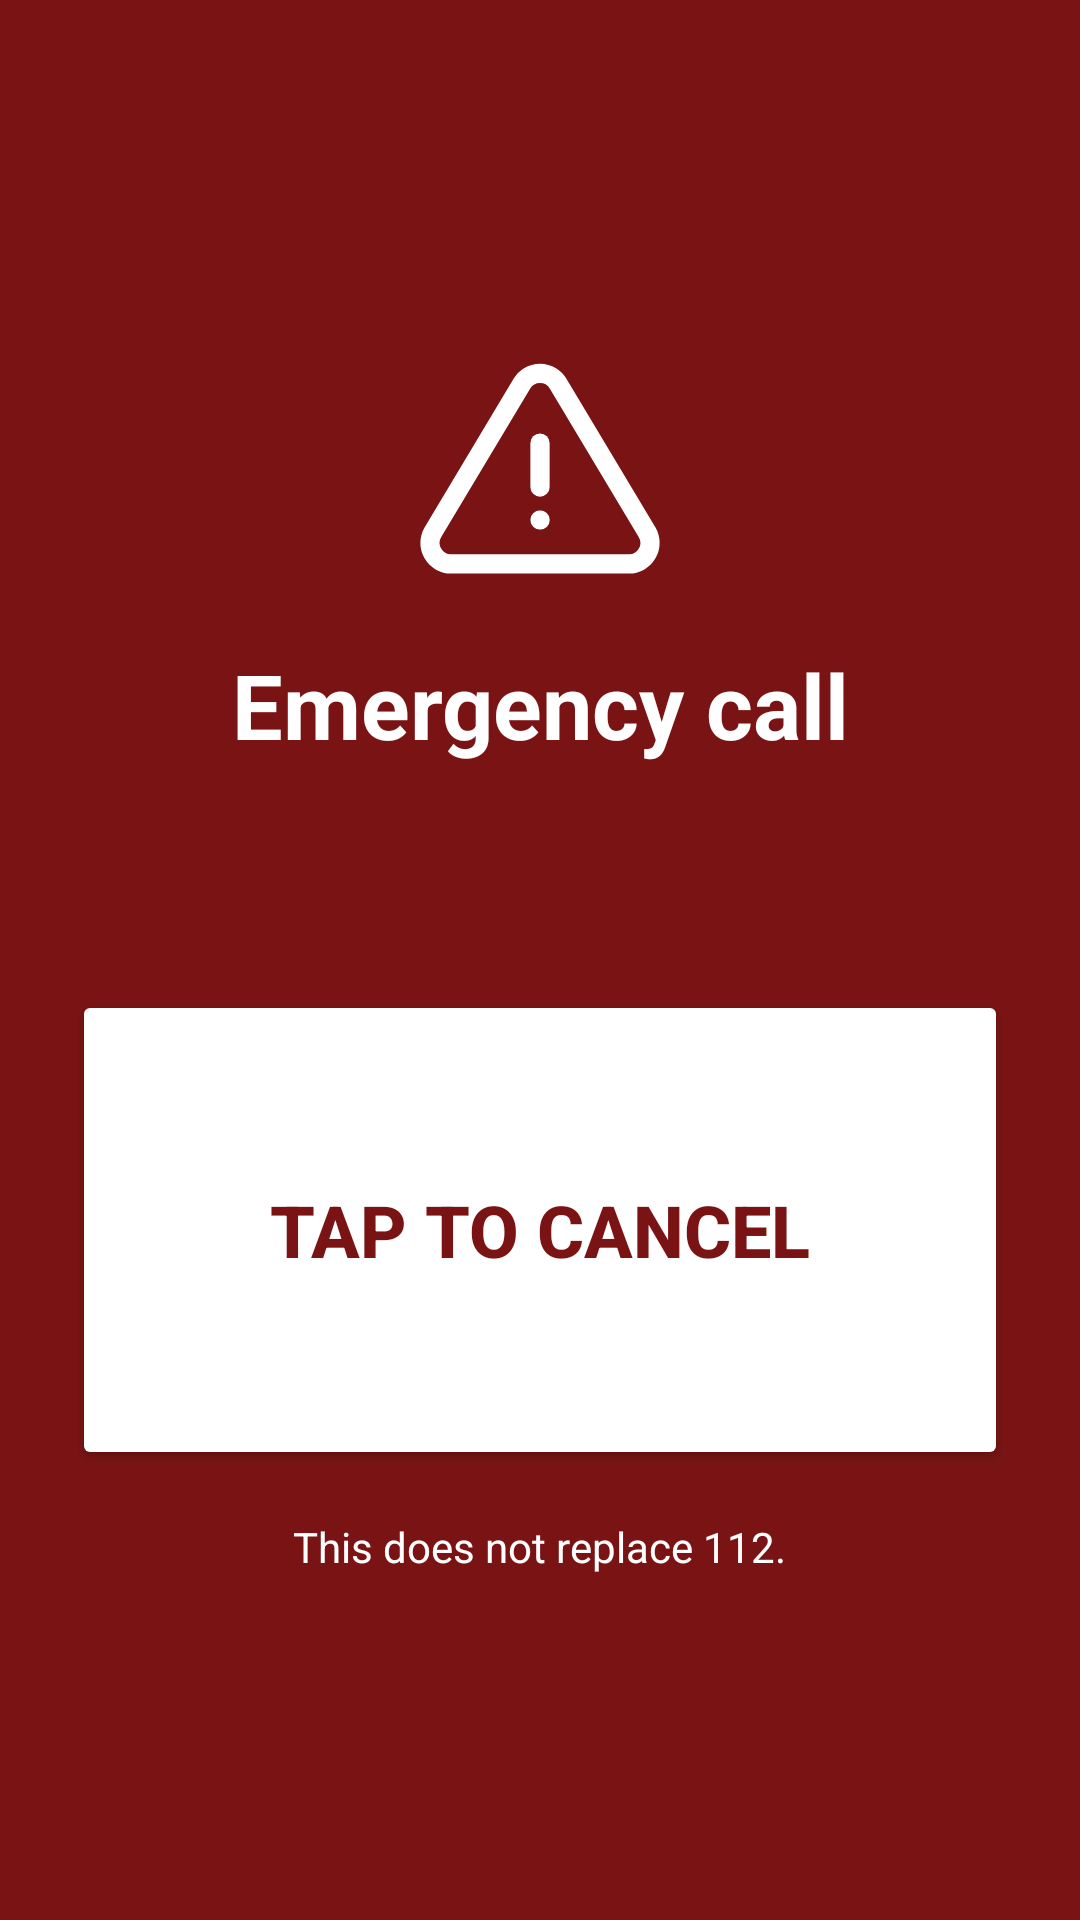

Icons on this 1080x1920 Android screen, each with the point to tap as (x=x, y=y):
alert triangle: (x=540, y=468)
